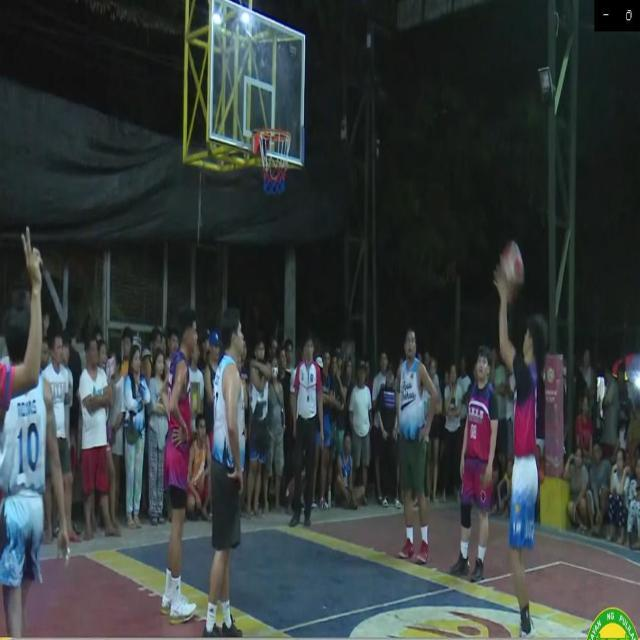basketball: (496, 236, 524, 302)
hoop: (258, 125, 292, 198)
